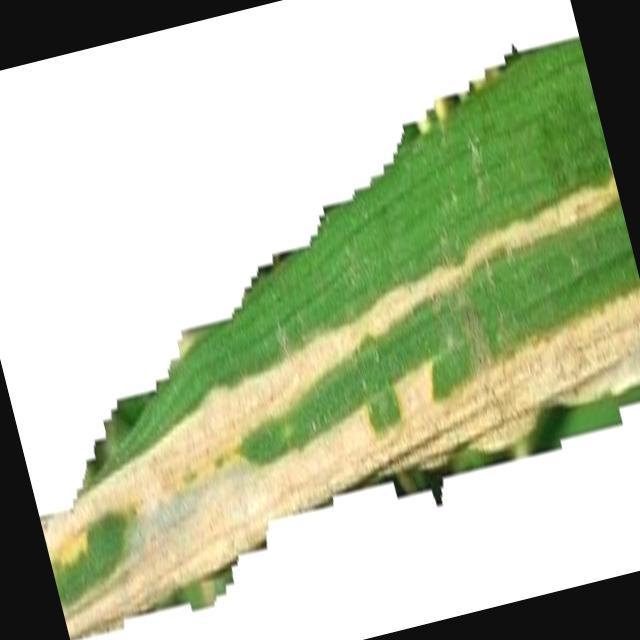leaf_blight: (39, 37, 640, 639)
